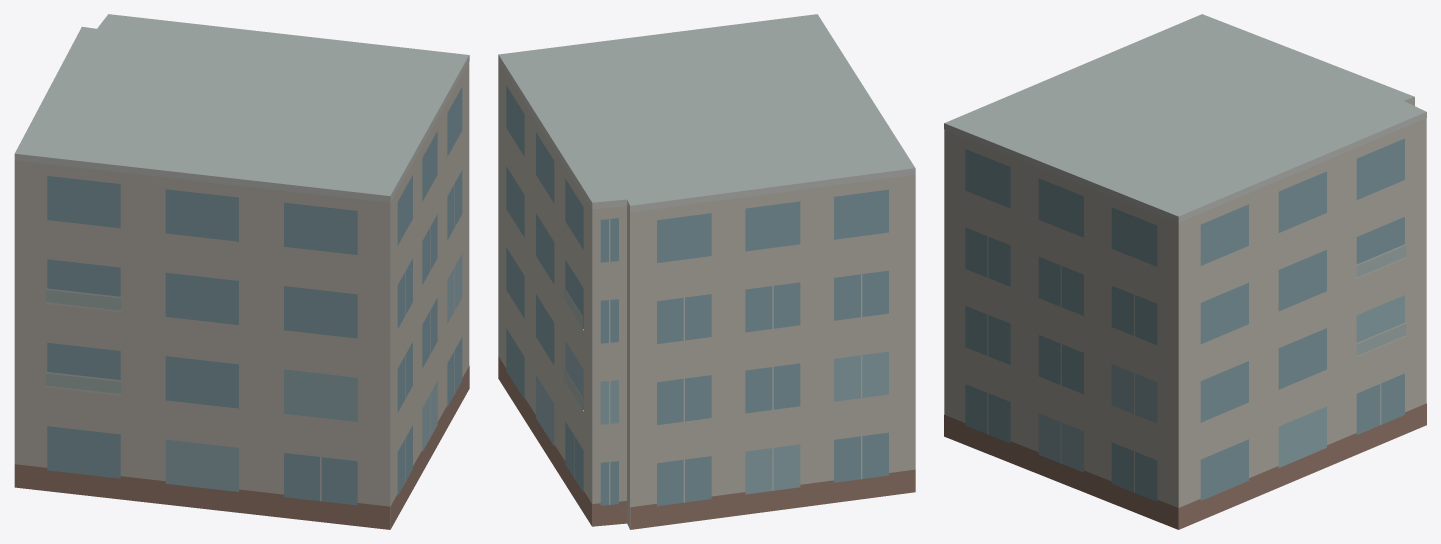
Rendered from survey-upis-32705422.glb.
3 renders of one model, left to right at view 1: azimuth 30°, elevation 25°; view 2: azimuth 150°, elevation 25°; view 3: azimuth 270°, elevation 25°, orthographic. The views are drawn at different scales.
Visible parts, largest first — view 1: survey-upis-32705422.tmp; view 2: survey-upis-32705422.tmp; view 3: survey-upis-32705422.tmp.
Boxes of the visible parts, <box> form: survey-upis-32705422.tmp: <box>14,14,469,529</box>; survey-upis-32705422.tmp: <box>498,14,915,529</box>; survey-upis-32705422.tmp: <box>944,14,1426,529</box>.
Bounding box in the file's own units: 16.92 × 12.2 × 17.04.
